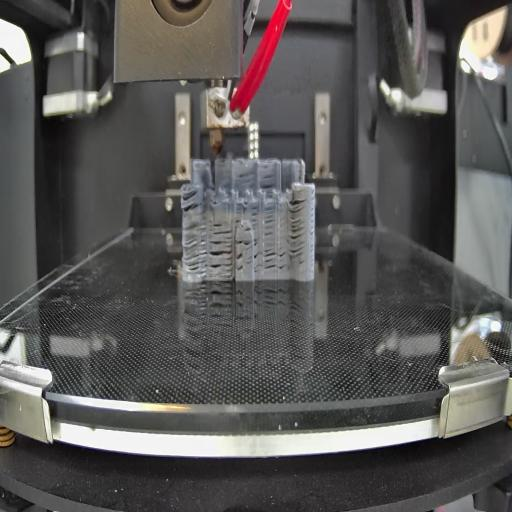cracks: (288, 200, 306, 262), (185, 224, 206, 274), (210, 238, 233, 274), (264, 207, 274, 239), (182, 194, 199, 212), (213, 223, 233, 236), (264, 249, 276, 270), (235, 238, 259, 248), (261, 173, 276, 188), (279, 247, 286, 273), (236, 253, 245, 272), (250, 204, 258, 222), (238, 172, 256, 178), (254, 254, 261, 266), (244, 224, 252, 232), (234, 218, 243, 224)
